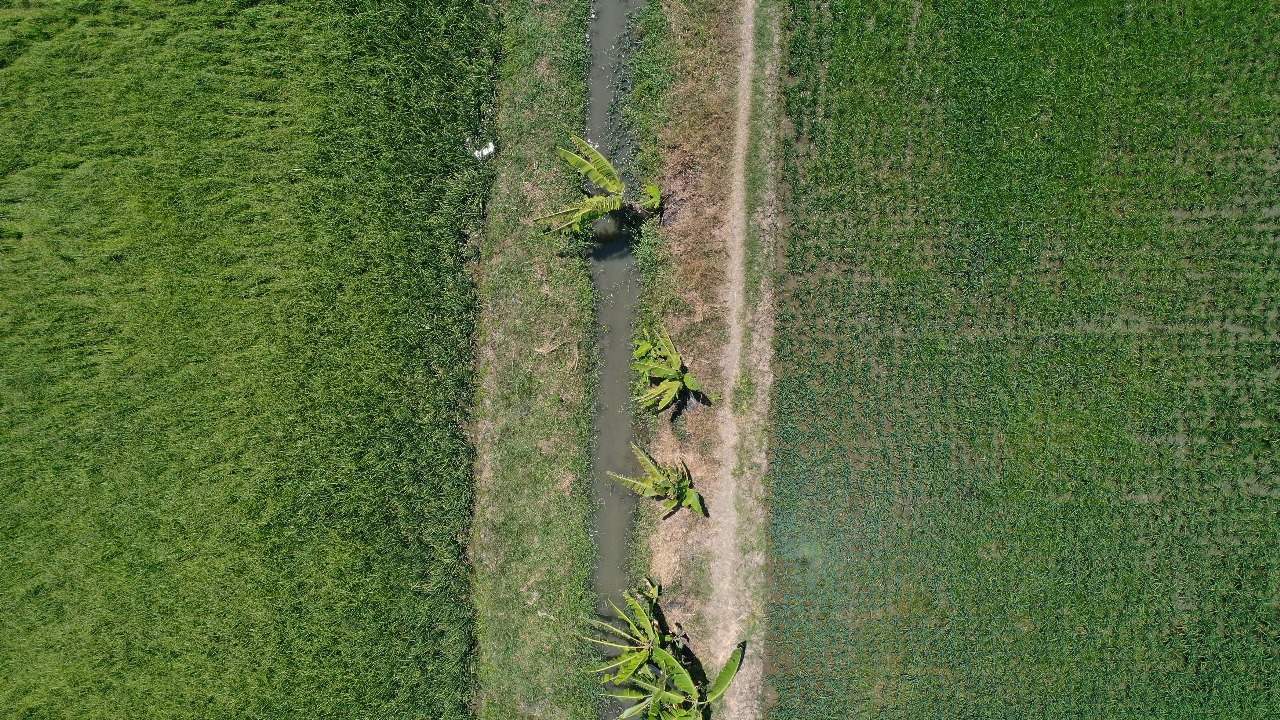irigation: (567, 214, 658, 601), (565, 1, 641, 161)
